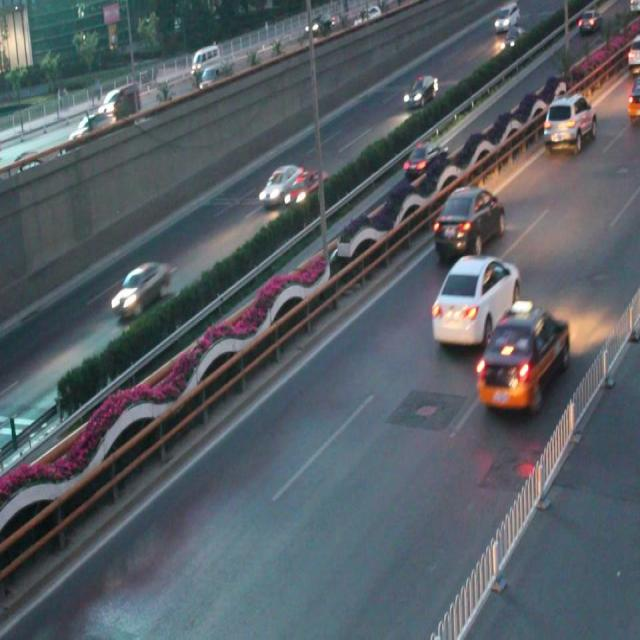car: (473, 302, 569, 406), (428, 254, 520, 346), (433, 183, 502, 257), (110, 262, 169, 314), (541, 96, 595, 152), (282, 168, 328, 211), (256, 164, 302, 205), (402, 138, 444, 178), (400, 70, 437, 110)
